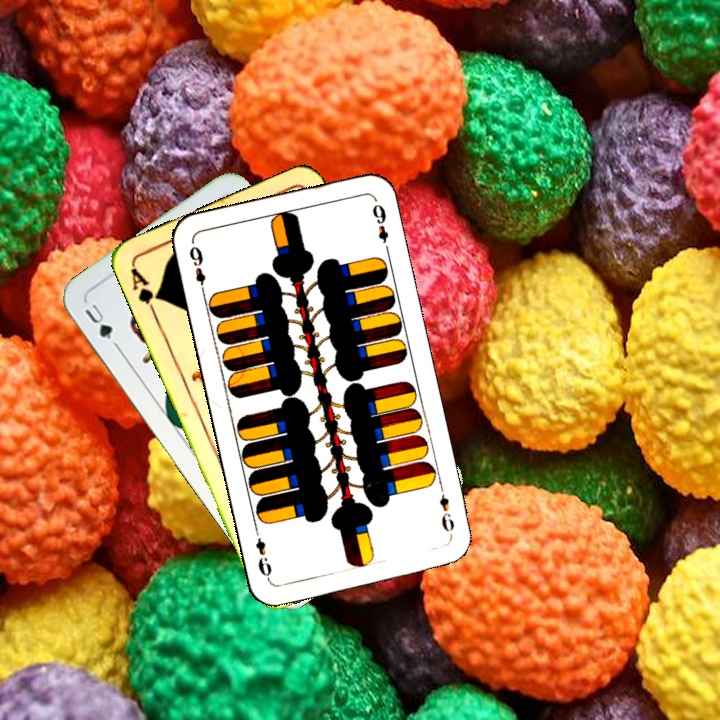E9: (185, 242, 209, 298), (435, 480, 457, 539)
GA: (126, 263, 164, 319)
GU: (80, 299, 116, 343)
